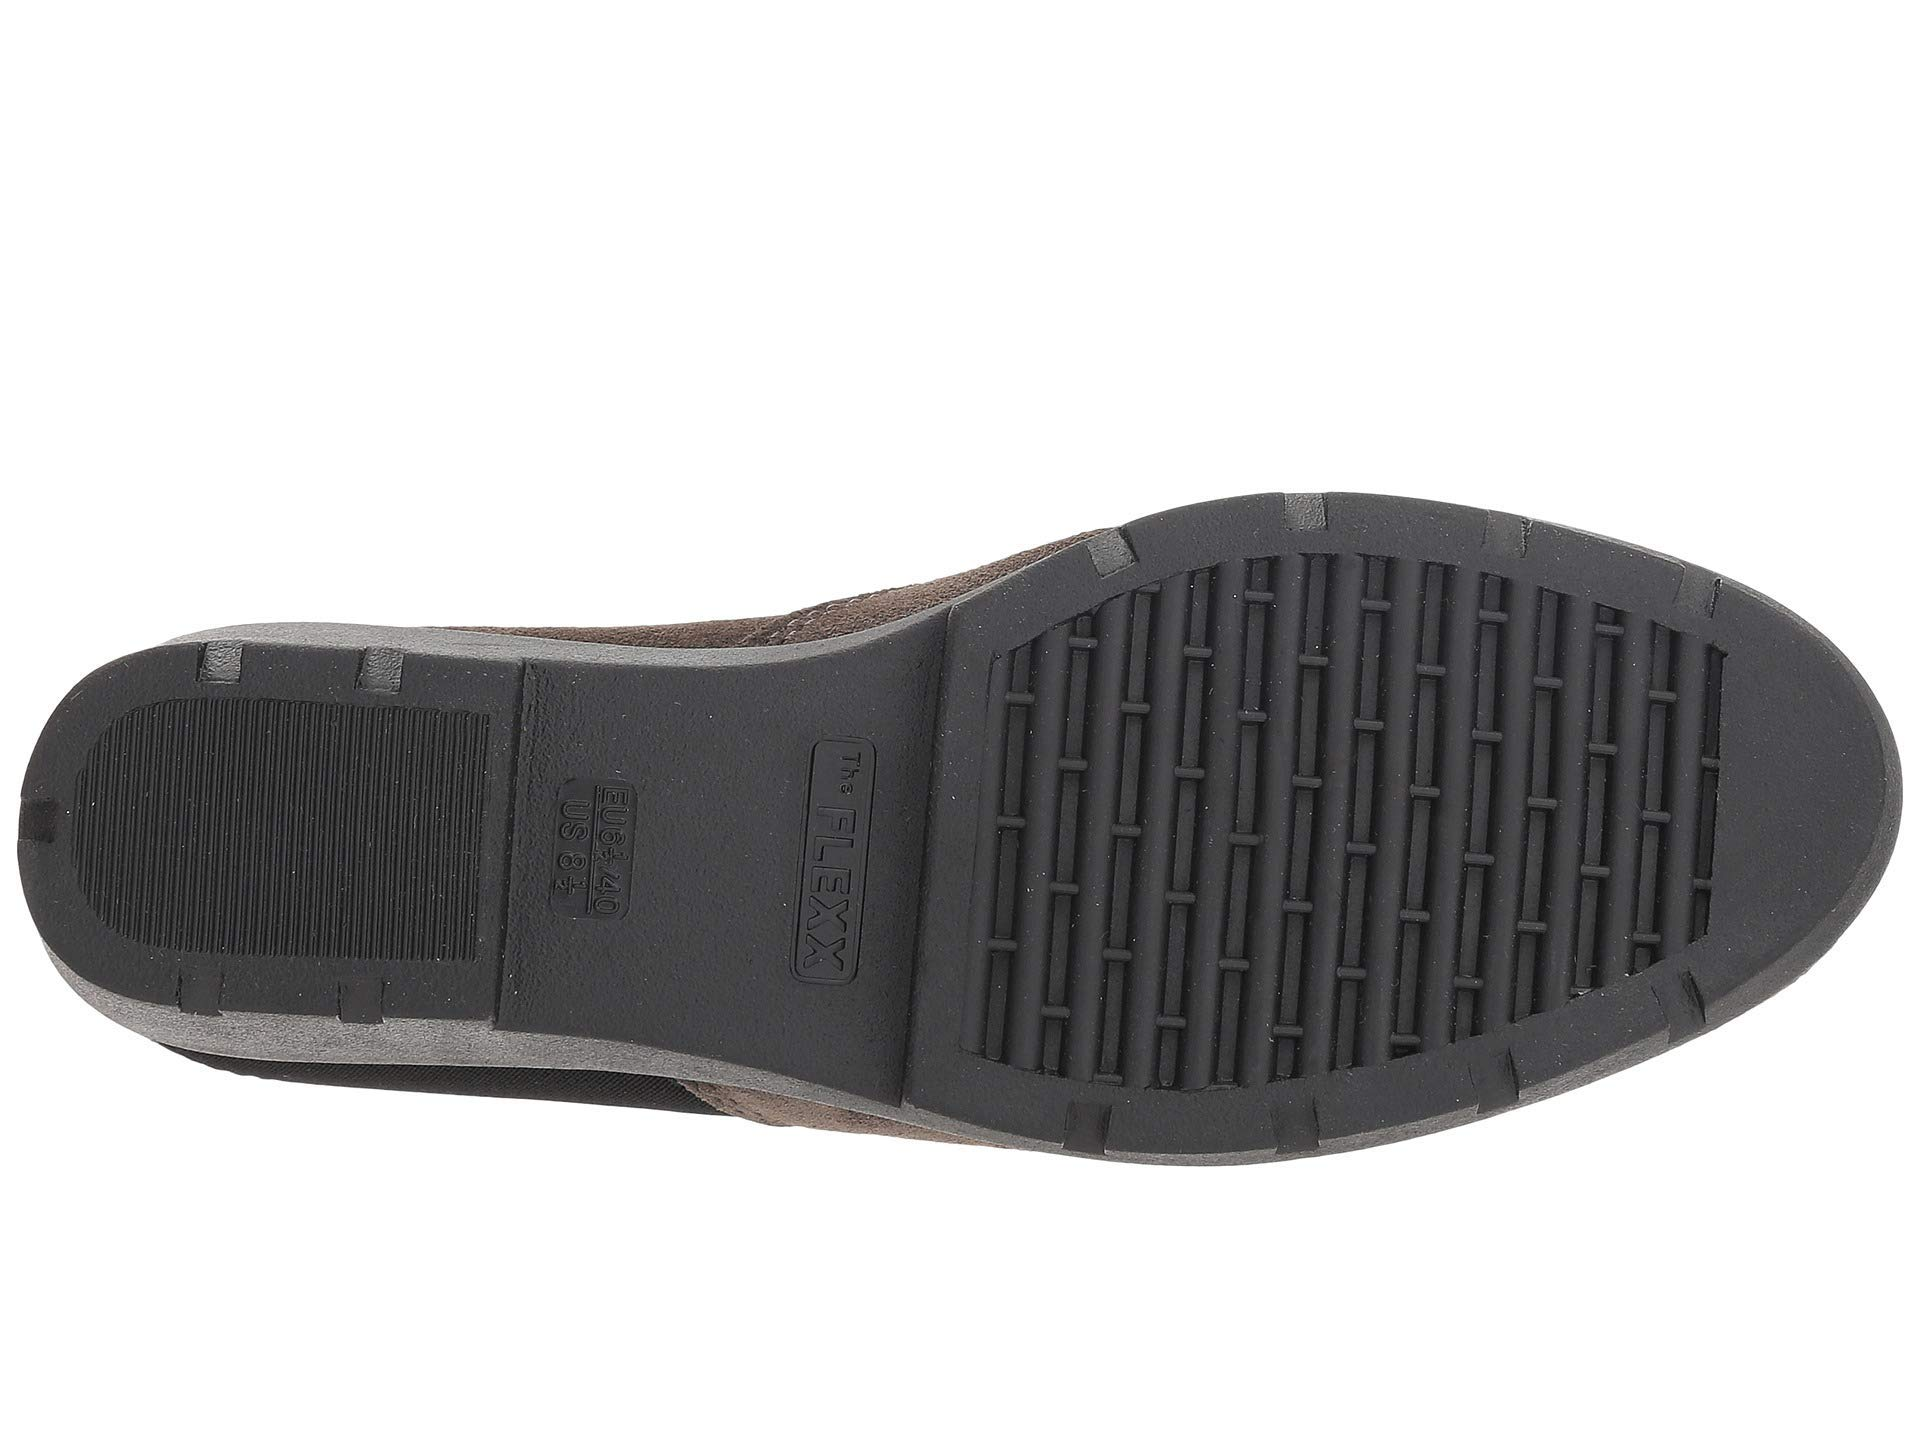line: (1054, 604, 1480, 1016), (190, 722, 410, 954)
quad: (1054, 604, 1480, 1016)
